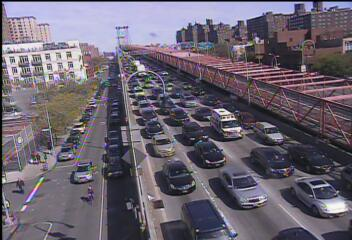neg: (200, 183, 224, 215), (230, 41, 253, 71), (196, 83, 218, 112), (145, 61, 167, 90), (66, 106, 88, 135), (261, 114, 282, 142), (54, 66, 75, 94), (106, 125, 127, 152), (290, 14, 308, 39), (164, 117, 182, 141), (27, 39, 45, 63), (297, 59, 315, 83), (285, 171, 302, 193), (295, 88, 311, 110), (117, 22, 131, 41), (175, 20, 188, 38), (150, 24, 161, 39)
pos: (80, 180, 100, 206), (14, 174, 29, 195), (33, 150, 43, 164)
